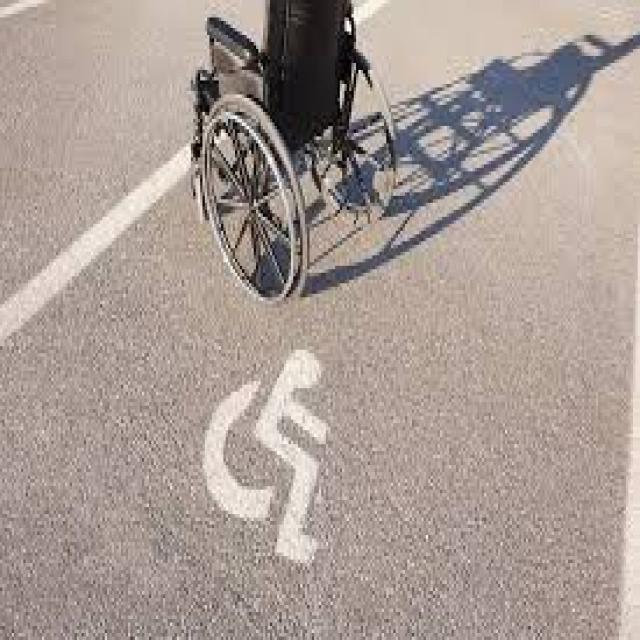wheelchairs: (179, 0, 410, 308)
